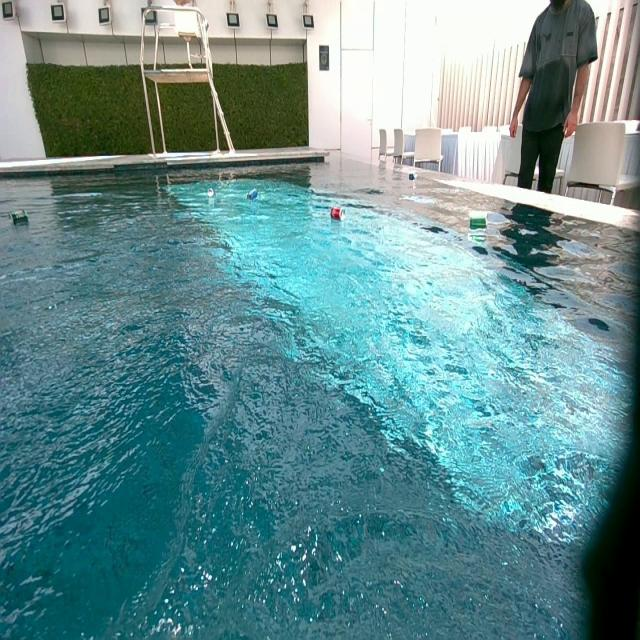Cans: (8, 210, 28, 226), (469, 212, 489, 228), (332, 207, 345, 221), (246, 188, 259, 201), (207, 185, 215, 198), (410, 172, 418, 181)
